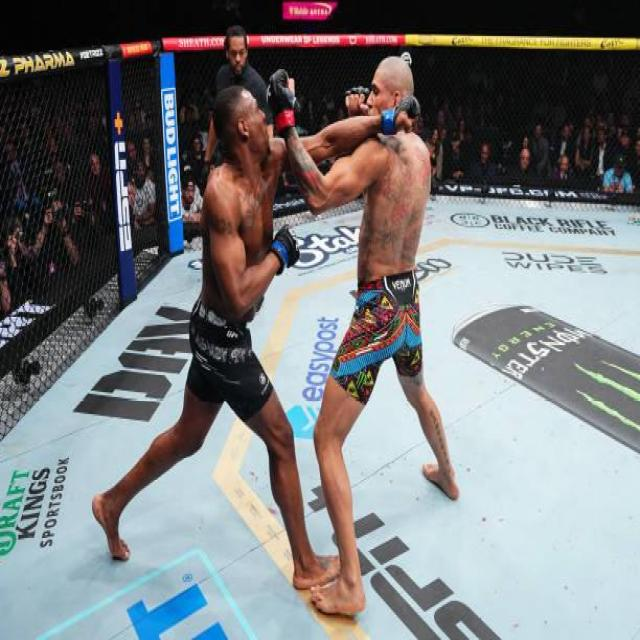fight: (136, 32, 456, 540)
